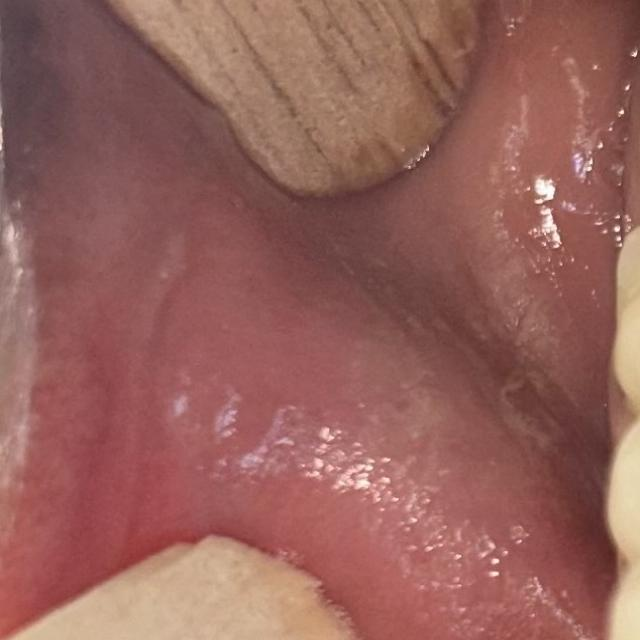leukoplakia-like-detection: (247, 4, 616, 561), (0, 198, 48, 514)
processing_area: (0, 0, 638, 638)
